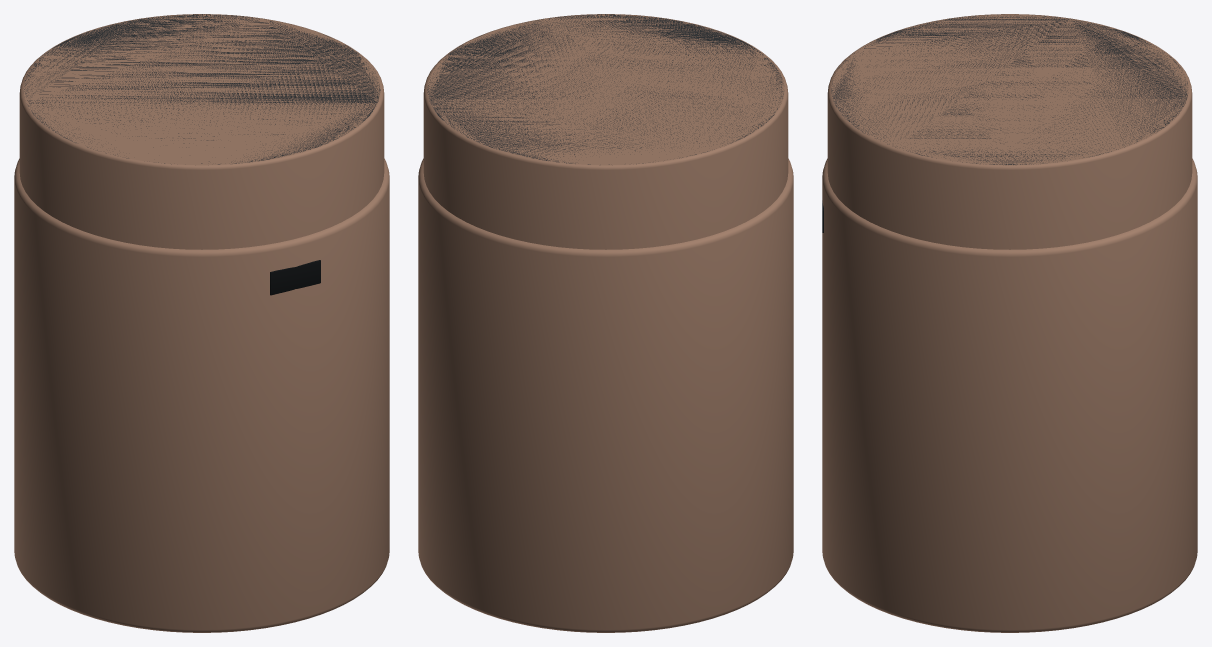
The model's file is AS064PCBAR.glb.
3 renders of one model, left to right at view 1: azimuth 30°, elevation 25°; view 2: azimuth 150°, elevation 25°; view 3: azimuth 270°, elevation 25°, orthographic.
Visible parts, largest first — view 1: AS064PCBAR; view 2: AS064PCBAR; view 3: AS064PCBAR.
Boxes of the visible parts, left/top/right/bottom form: AS064PCBAR: left=14, top=14, right=389, bottom=632; AS064PCBAR: left=418, top=14, right=793, bottom=632; AS064PCBAR: left=822, top=14, right=1197, bottom=632.
Bounding box in the file's own units: 0.41 × 0.561 × 0.41.
